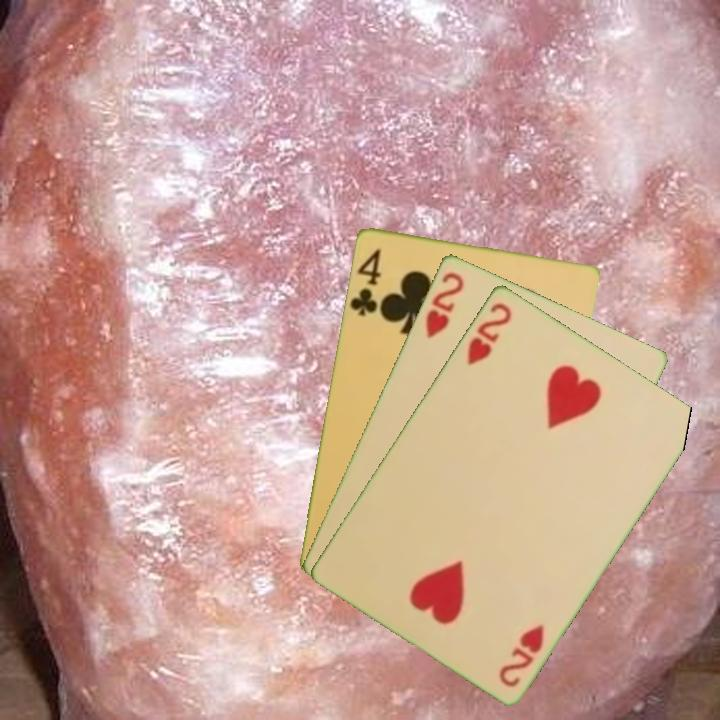2h: (463, 298, 515, 368), (495, 620, 547, 690), (421, 267, 467, 341)
4c: (346, 245, 383, 319)
